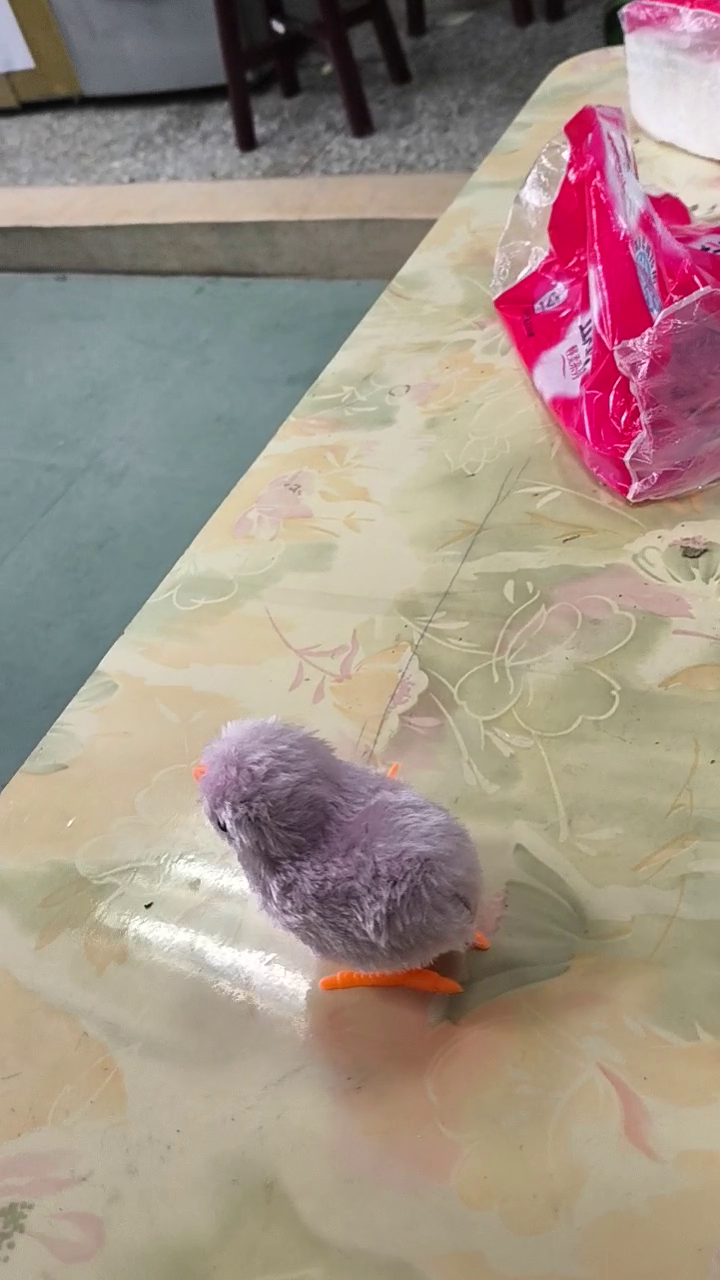pink chicken: (194, 708, 497, 1006)
